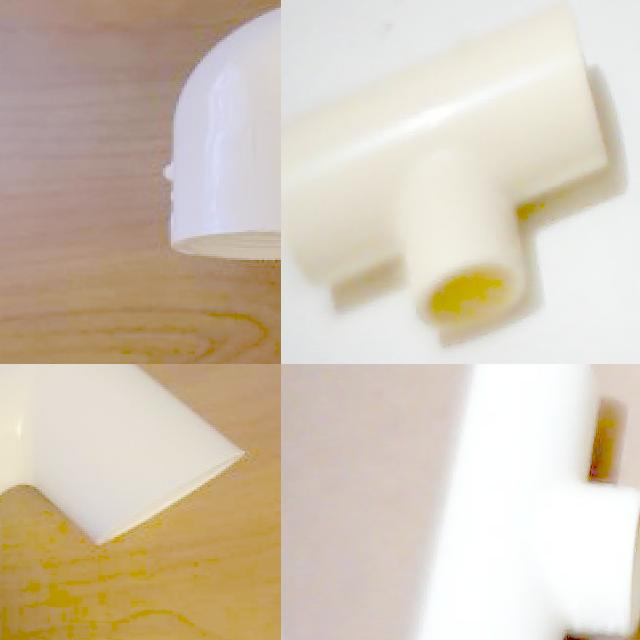L Joint: (166, 7, 281, 264)
T Joint: (281, 2, 624, 349), (410, 364, 640, 640)
